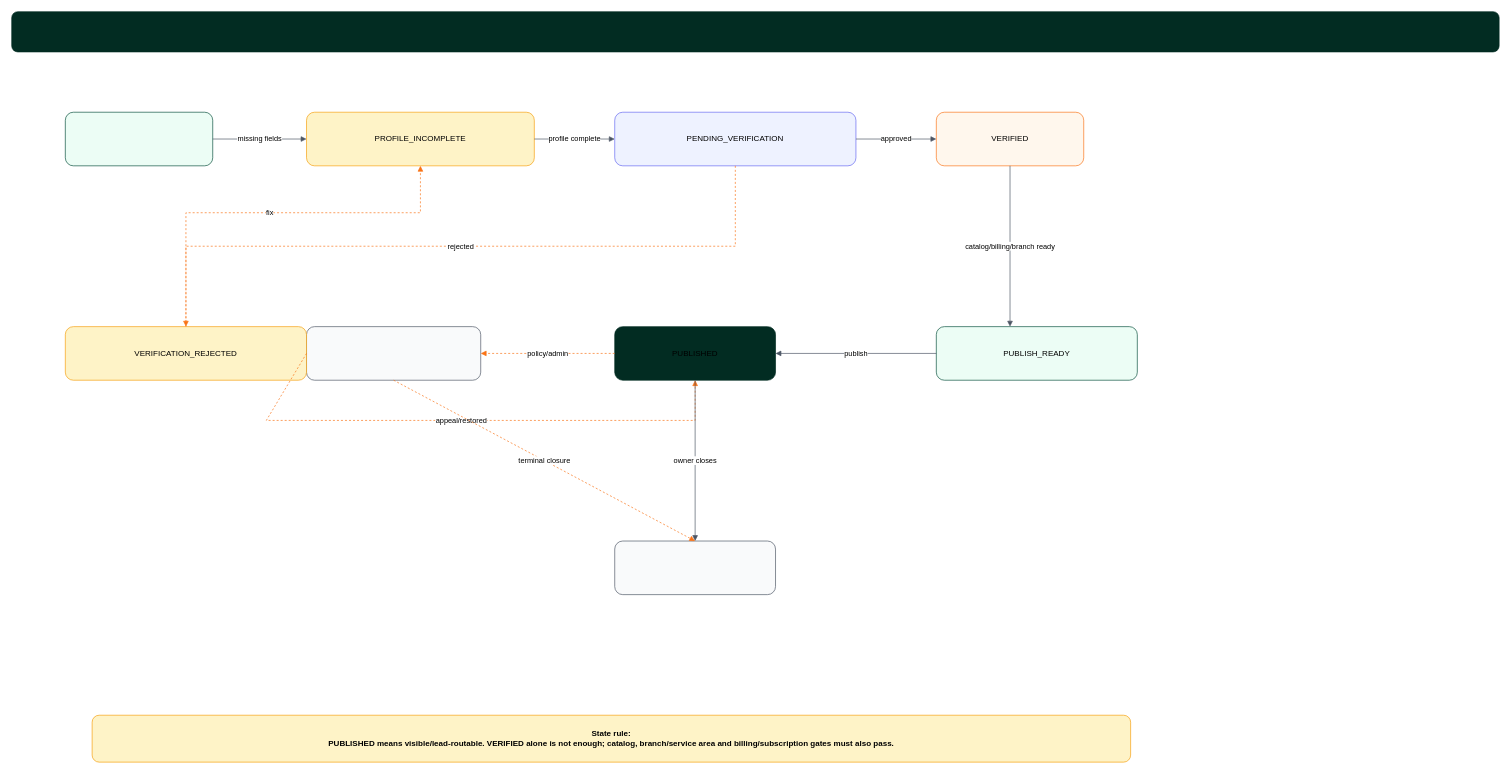
Image size: 1511x774. Some labels were removed from this diagram. Here are the shapes that lost their labels. From the top down, the centre of each, then its label:
At pixel 755 31: "Viaverse Business Account / Merchant State — State Diagram".
At pixel 139 139: "DRAFT".
At pixel 393 353: "SUSPENDED".
At pixel 695 567: "ARCHIVED".
